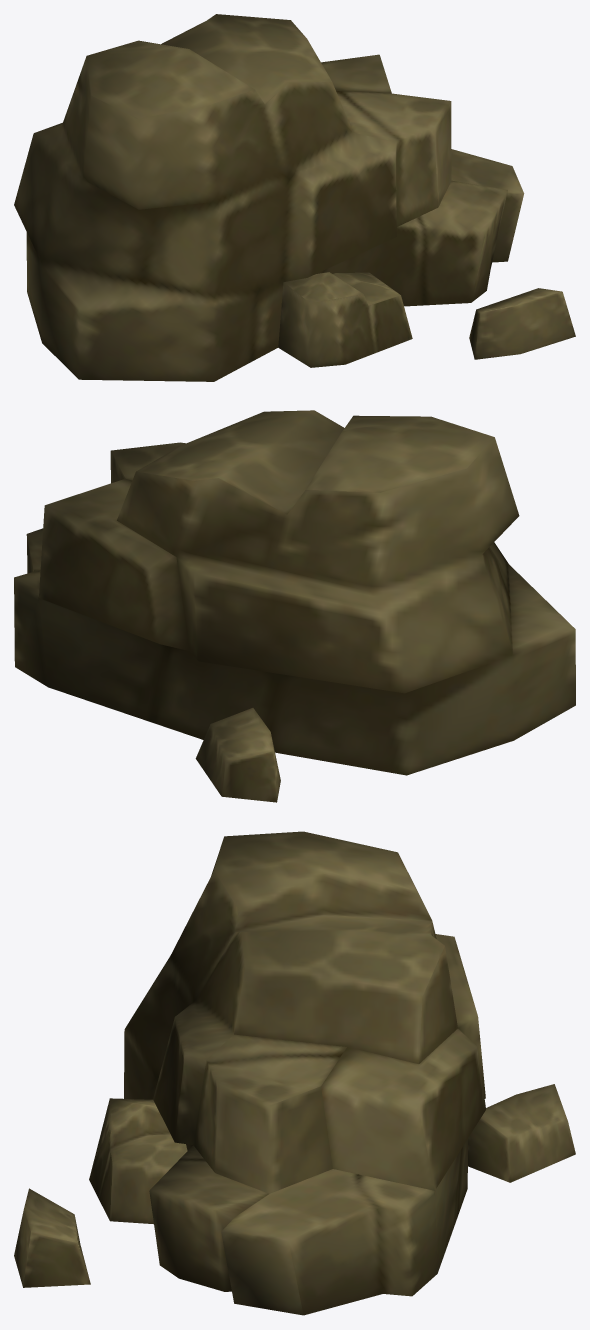
The model's file is obj_metope_010.FBX.
The picture shows the model from 3 angles, top to bottom: view 1: azimuth 30°, elevation 25°; view 2: azimuth 150°, elevation 25°; view 3: azimuth 270°, elevation 25°; orthographic projection. The views are drawn at different scales.
Visible parts, largest first — view 1: obj_metope_010_01; view 2: obj_metope_010_01; view 3: obj_metope_010_01.
Part boxes in pixels (x1,y1,x2,y2): obj_metope_010_01: (14,14,575,381); obj_metope_010_01: (14,410,575,802); obj_metope_010_01: (14,831,575,1315).
Size of the model in its own units: 2.3 by 1.18 by 2.14.
